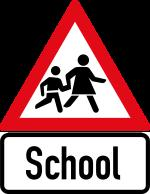School Ahead: (14, 15, 143, 188)
